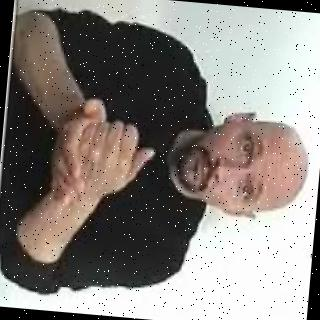Help: (46, 77, 160, 212)
